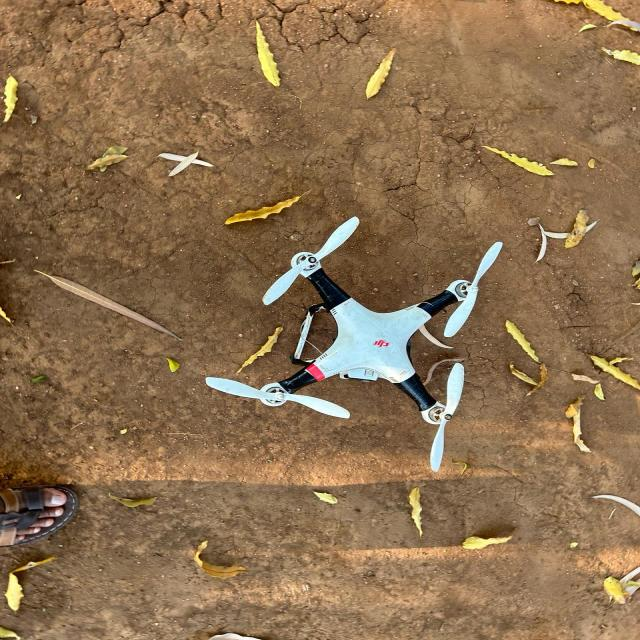drone: (182, 145, 540, 545)
